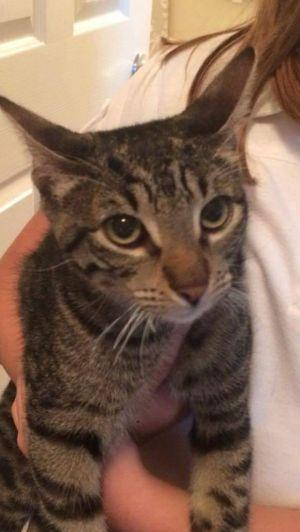bengal: (1, 41, 283, 333)
